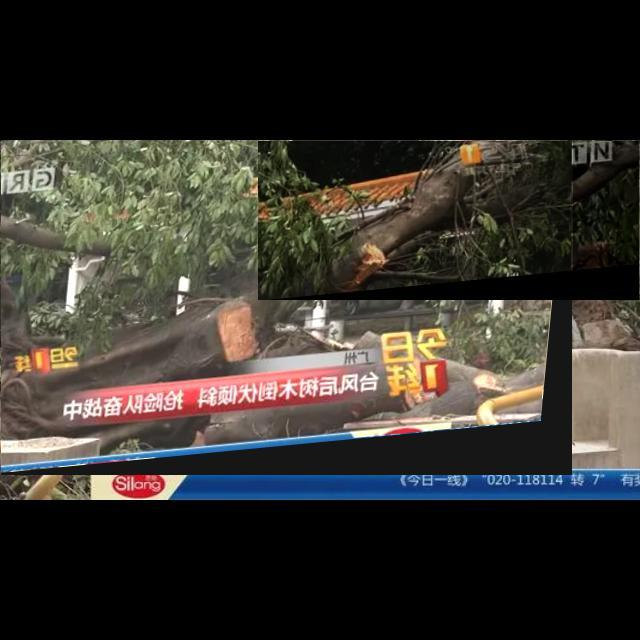fallen_tree: (1, 140, 573, 476), (258, 141, 640, 301)
